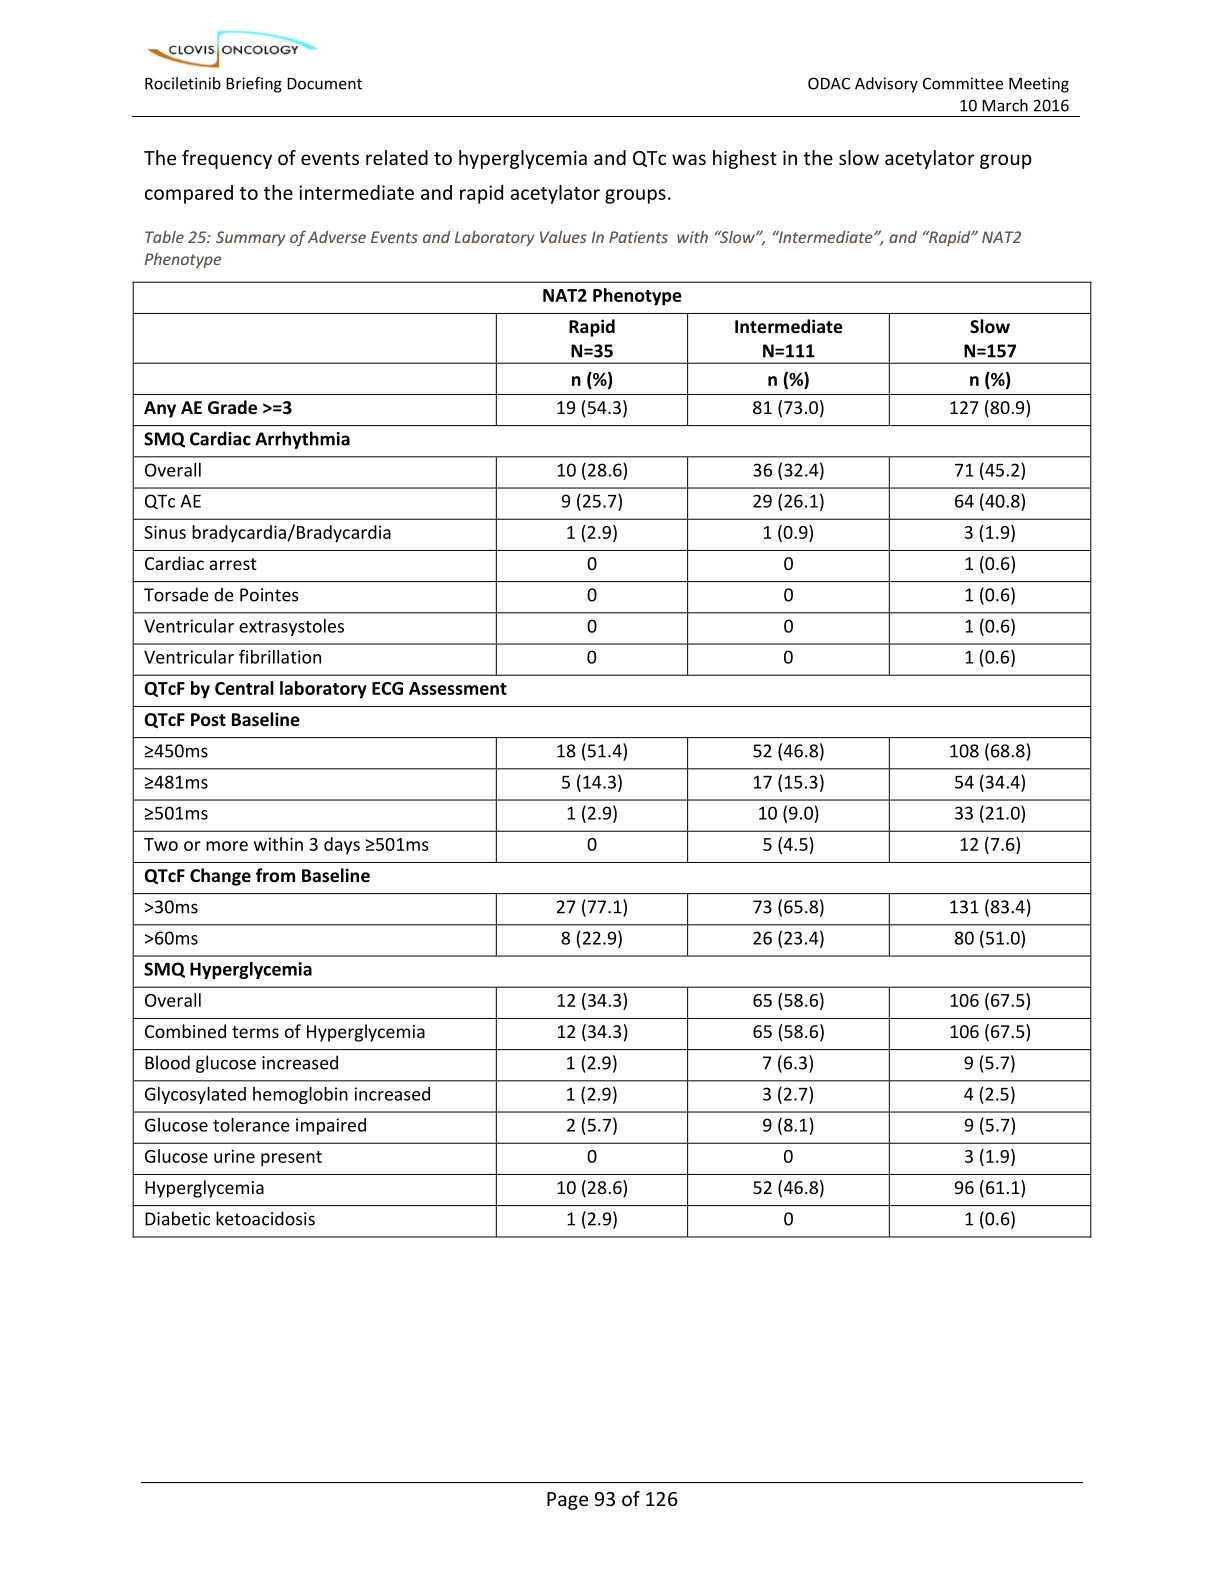merged_cells: (132, 280, 1092, 1239)
